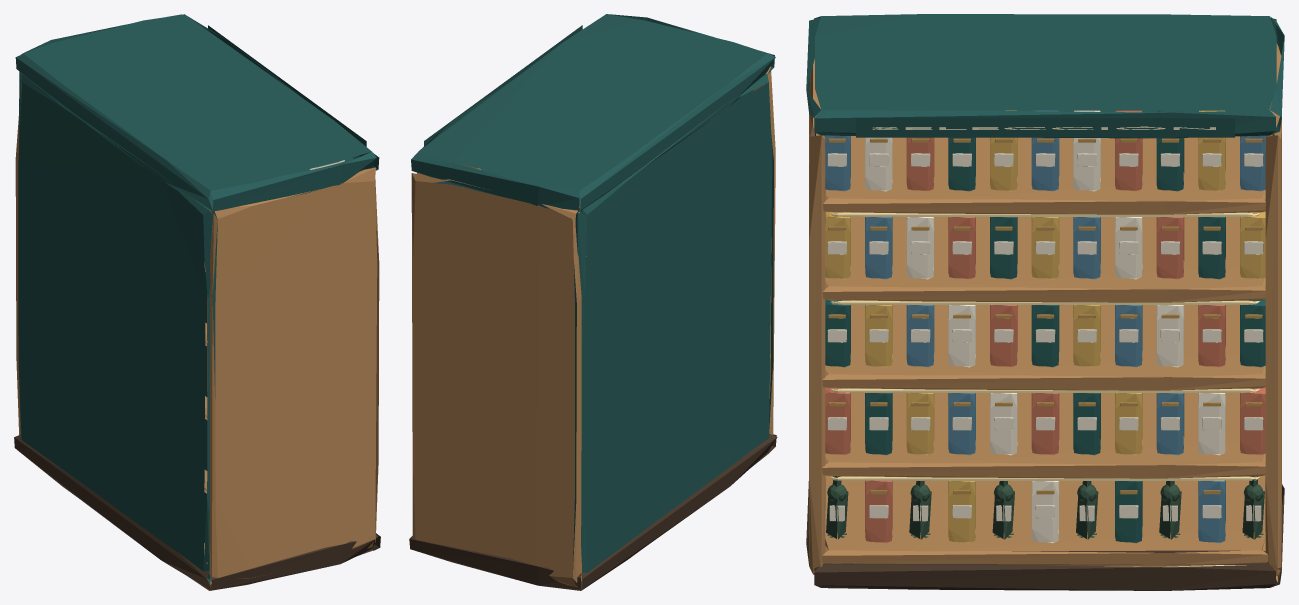
Rendered from good.glb.
3 renders of one model, left to right at view 1: azimuth 30°, elevation 25°; view 2: azimuth 150°, elevation 25°; view 3: azimuth 270°, elevation 25°, orthographic. The views are drawn at different scales.
Parts seen in each view (by area): view 1: Native component 10, Native component 14, Native component 0, Native component 1; view 2: Native component 10, Native component 14, Native component 0, Native component 1; view 3: Native component 14, Native component 10, Native component 100, Native component 114, Native component 173, Native component 183, Native component 0, Native component 1, Native component 21, Native component 26, Native component 124, Sign SELECCIÓN.
Boxes of the visible parts, box(x1,y1,x2,y2) form: Native component 10: box(15, 14, 379, 582); Native component 14: box(15, 82, 379, 584); Native component 0: box(14, 434, 380, 590); Native component 1: box(208, 25, 366, 146); Native component 10: box(411, 14, 775, 578); Native component 14: box(411, 66, 775, 586); Native component 0: box(409, 434, 777, 590); Native component 1: box(424, 25, 582, 146); Native component 14: box(809, 43, 1281, 582); Native component 10: box(806, 14, 1284, 543); Native component 100: box(827, 110, 1263, 543); Native component 114: box(825, 110, 1265, 543); Native component 173: box(825, 110, 1265, 543); Native component 183: box(824, 110, 1267, 543); Native component 0: box(806, 481, 1284, 590); Native component 1: box(856, 118, 1234, 137); Native component 21: box(831, 212, 1259, 567); Native component 26: box(826, 476, 1264, 539); Native component 124: box(828, 138, 1262, 494); Sign SELECCIÓN: box(872, 126, 1215, 129).
Size of the model in its own units: 1.04 by 2.23 by 2.02.
